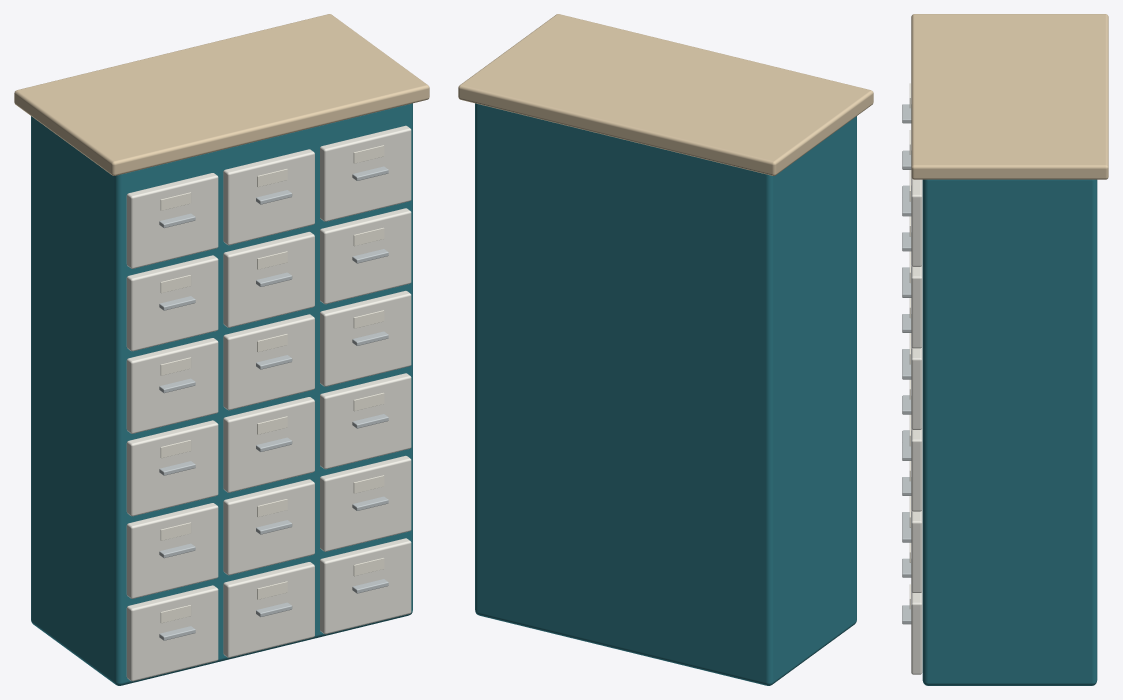
Rendered from bicycle-shop-and-repair-cafe-parts-drawer-cabinet-f5cde9a9__32427.glb.
3 renders of one model, left to right at view 1: azimuth 30°, elevation 25°; view 2: azimuth 150°, elevation 25°; view 3: azimuth 270°, elevation 25°, orthographic.
Parts seen in each view (by area): view 1: parts-drawer-cabinet; view 2: parts-drawer-cabinet; view 3: parts-drawer-cabinet.
Part boxes in pixels (x1,y1,x2,y2): parts-drawer-cabinet: (14,14,429,685); parts-drawer-cabinet: (458,14,873,685); parts-drawer-cabinet: (902,14,1108,685).
Size of the model in its own units: 0.79 by 1.27 by 0.4495.
